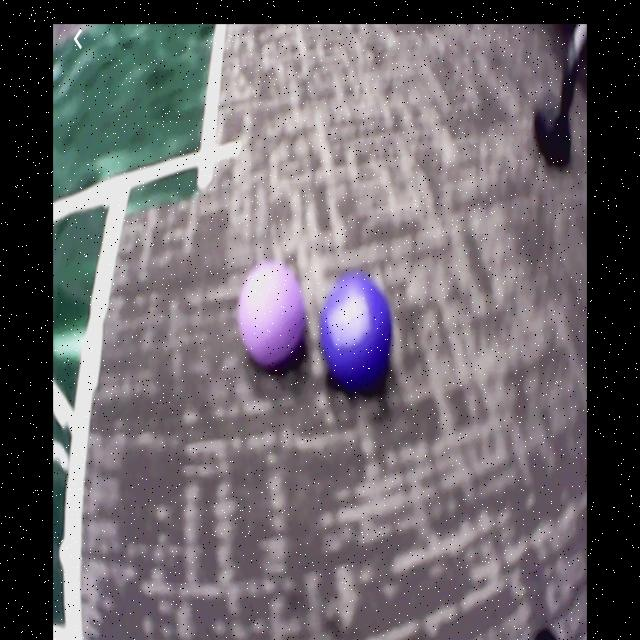ball: (319, 277, 394, 392), (239, 264, 308, 371)
